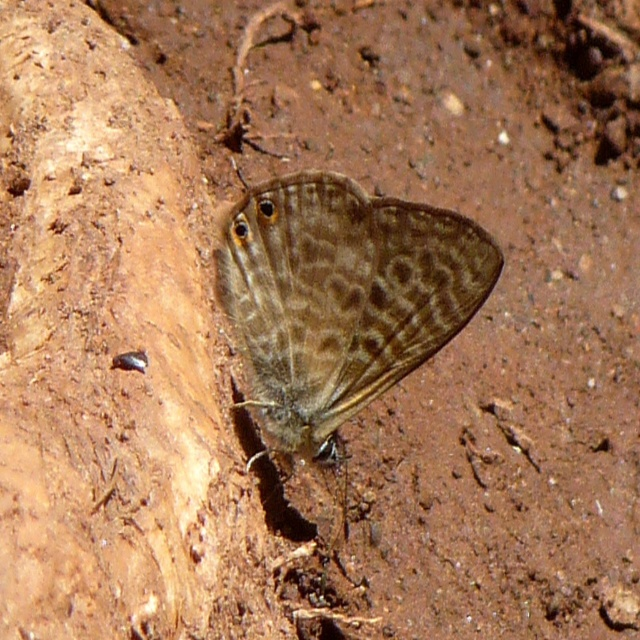Butterfly: (210, 156, 489, 564)
